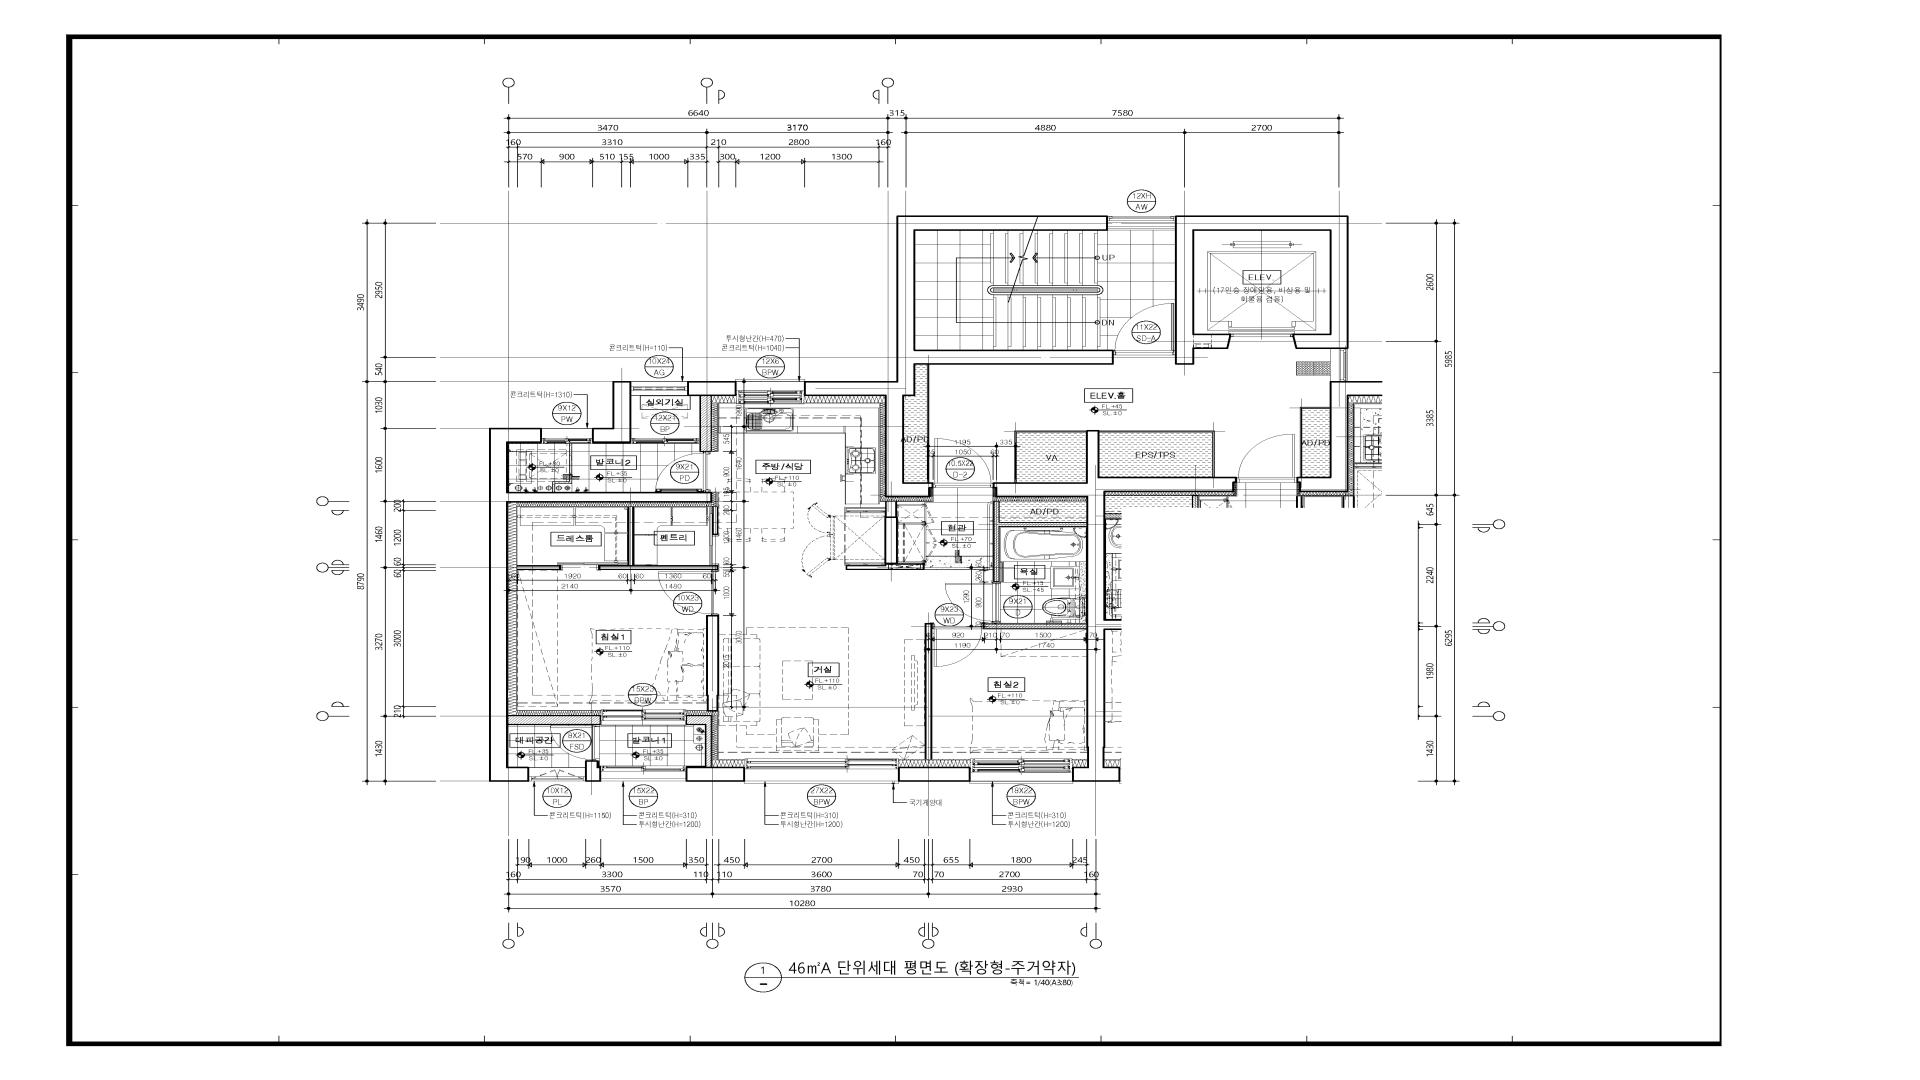door: (1113, 303, 1175, 355), (934, 438, 993, 488), (655, 570, 719, 616), (1237, 434, 1296, 483), (932, 624, 985, 667), (654, 452, 712, 492), (993, 587, 1043, 624), (550, 725, 600, 761), (558, 562, 628, 570), (709, 506, 719, 566)
wall: (804, 215, 1114, 497), (993, 430, 1237, 782), (489, 427, 712, 782), (1175, 215, 1349, 365), (993, 501, 1087, 587), (597, 506, 719, 570), (1296, 381, 1349, 492), (845, 501, 924, 570), (592, 381, 632, 444), (686, 715, 712, 766), (705, 615, 719, 712), (899, 766, 969, 782), (924, 622, 932, 760), (508, 715, 601, 725), (686, 766, 744, 782), (687, 381, 736, 396), (700, 396, 712, 452), (984, 624, 1087, 629), (585, 761, 601, 782), (517, 564, 562, 570), (712, 506, 719, 535)
window: (744, 758, 899, 783), (969, 758, 1073, 783), (736, 378, 804, 405), (601, 766, 686, 782), (601, 709, 686, 725), (1108, 215, 1175, 231), (529, 766, 585, 782), (632, 381, 687, 396), (1329, 348, 1349, 381), (632, 438, 700, 444), (542, 438, 592, 444)
